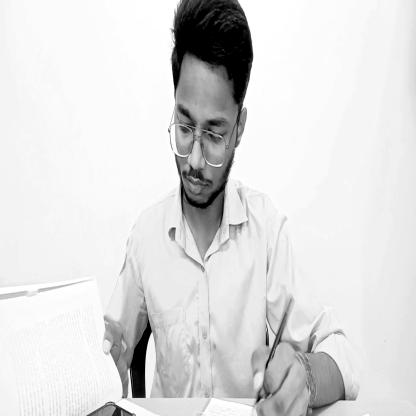Distracted: (168, 3, 258, 214)
